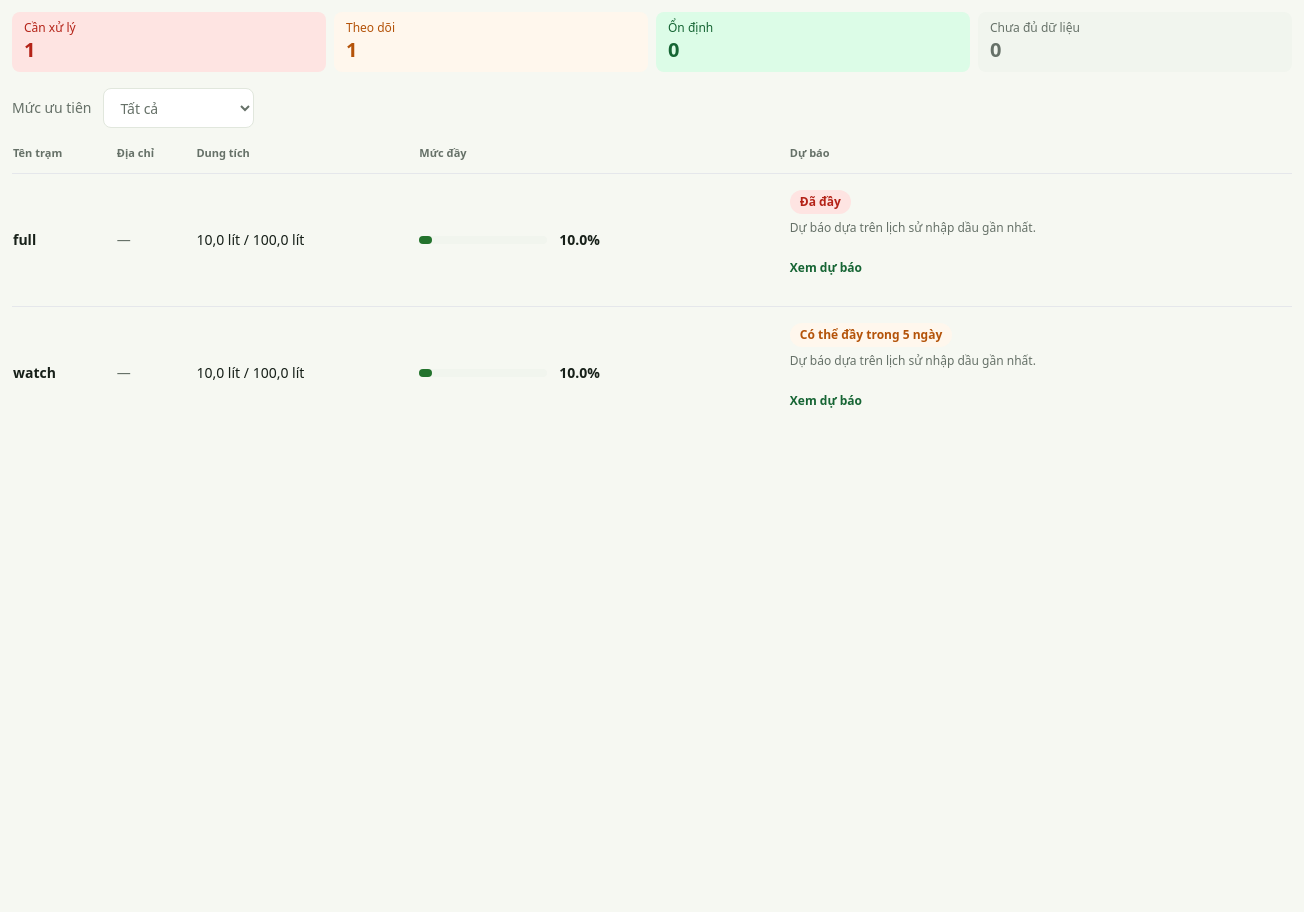
Test: mở trạm thứ hai thì chi tiết trạm thứ nhất đóng
The width and height of the screenshot is (1304, 912).
Click the button "Xem dự báo" below "Đã đầy" at [826, 268], box [790,246,862,290]
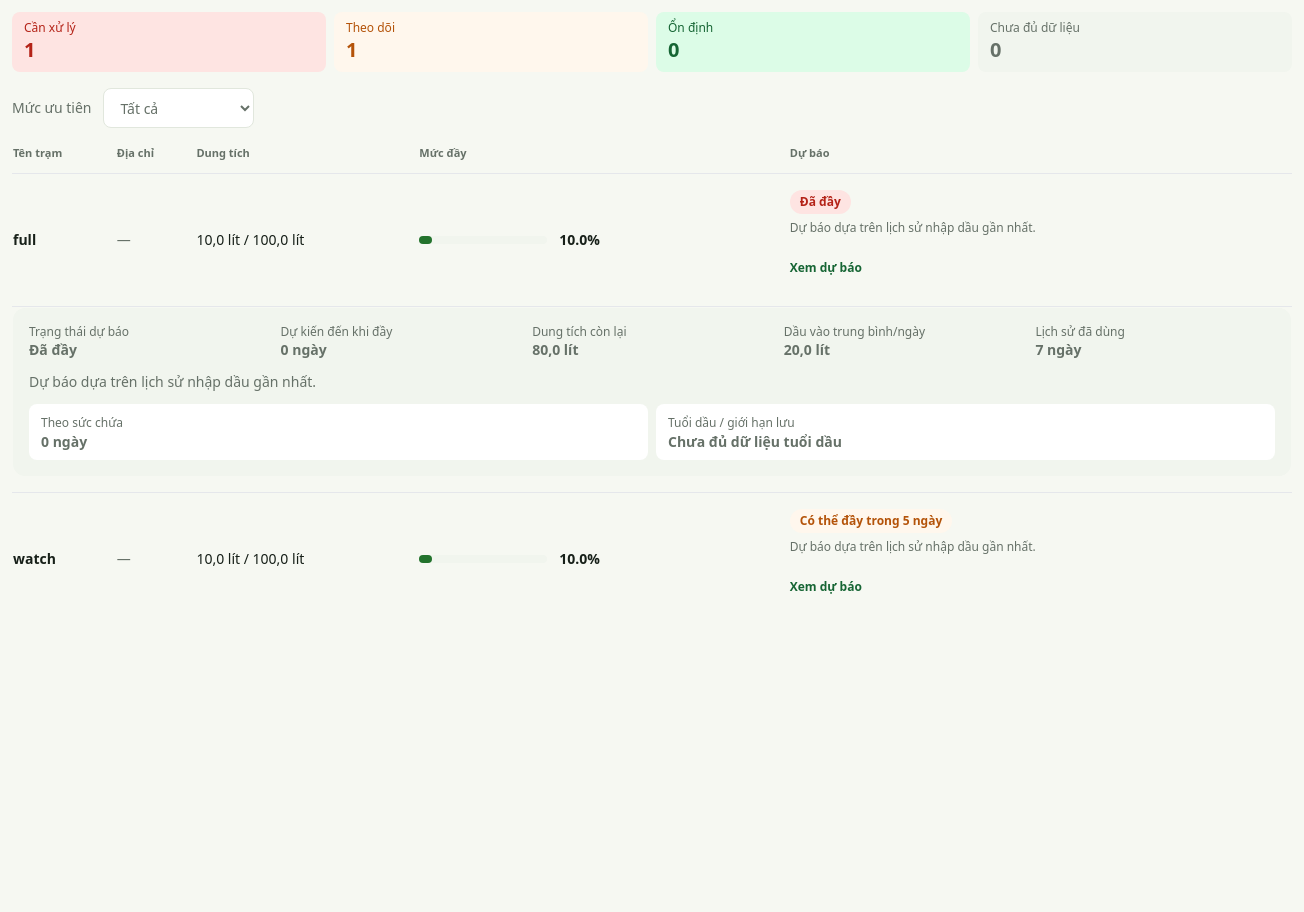
Expected: the row with test id "station-forecast-details-full" is shown, [12,306,1292,492]
Click the button "Xem dự báo" below "Có thể đầy trong 5 ngày" at [826, 587], box [790,565,862,609]
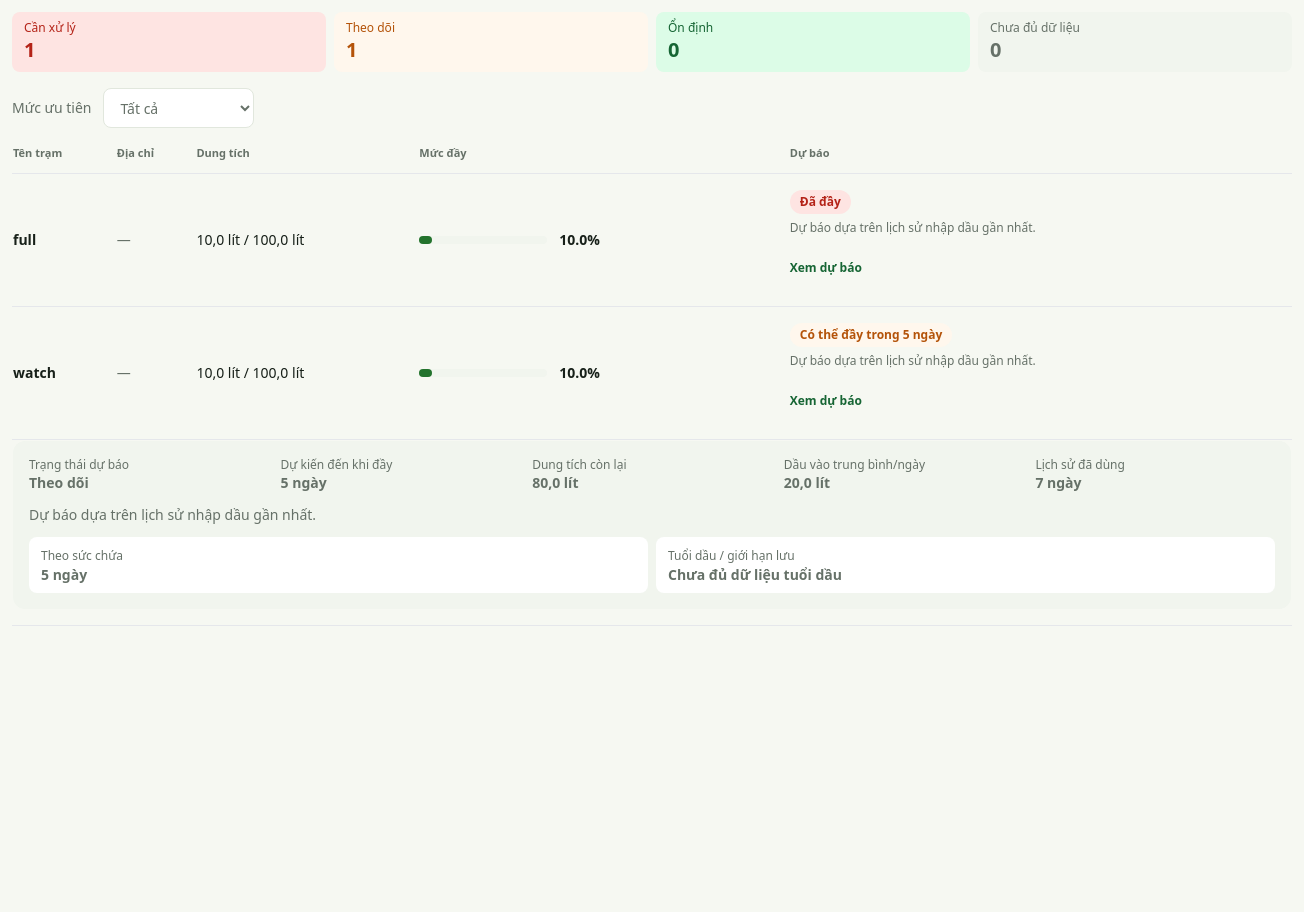
Expected: the row with test id "station-forecast-details-full" is gone
Expected: the row with test id "station-forecast-details-watch" is shown, [12,440,1292,626]
Expected: the button "Xem dự báo" below "Có thể đầy trong 5 ngày" is expanded, [790,379,862,423]
